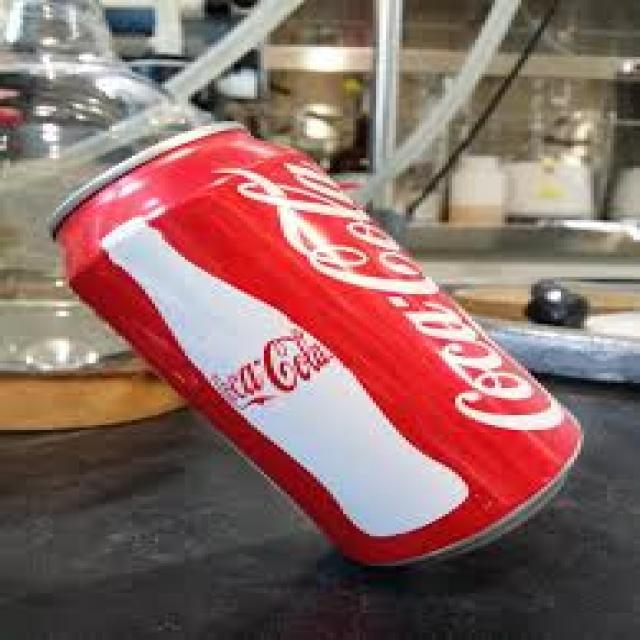coca-cola: (46, 121, 590, 577)
